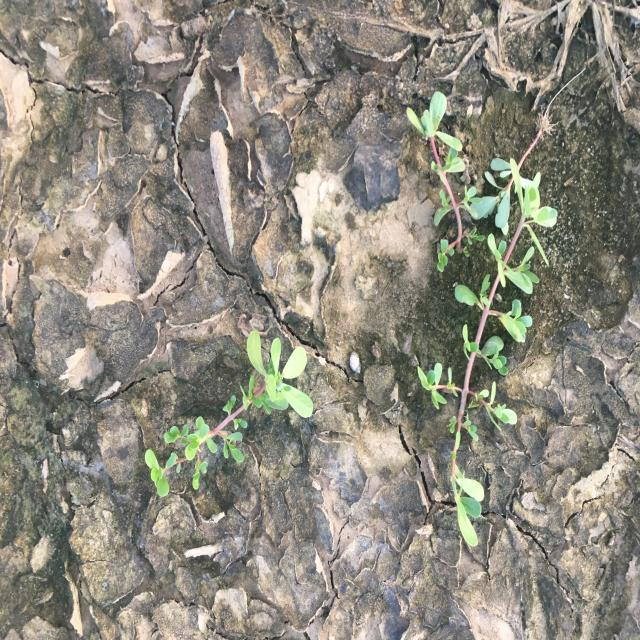Purslane: (416, 156, 558, 550), (144, 329, 315, 499), (404, 89, 486, 274), (468, 110, 550, 238)
